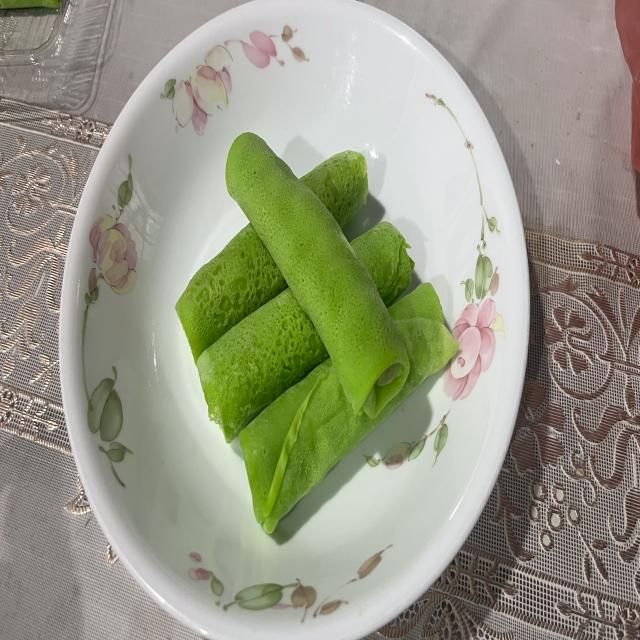Kuih-Ketayap: (240, 282, 459, 533), (226, 133, 410, 418), (198, 289, 328, 442), (176, 224, 286, 362), (301, 151, 368, 229), (351, 222, 414, 304)
